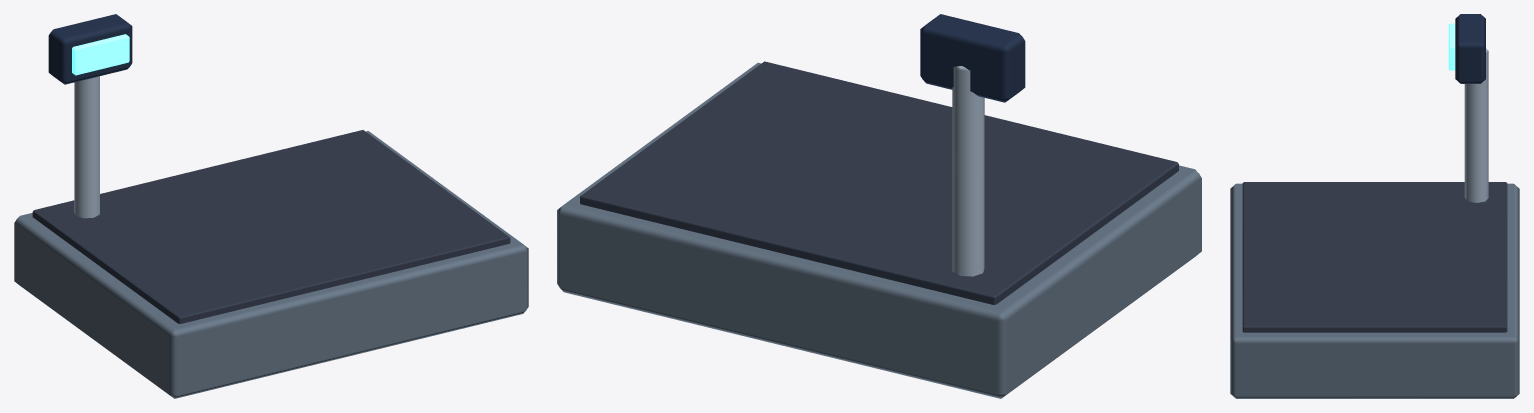
The model's file is cargo_scale.glb.
3 views of the same model, side by side, from view 1: azimuth 30°, elevation 25°; view 2: azimuth 150°, elevation 25°; view 3: azimuth 270°, elevation 25° (orthographic). The views are drawn at different scales.
Visible parts, largest first — view 1: cargo_scale; view 2: cargo_scale; view 3: cargo_scale.
Boxes of the visible parts, x1,y1,x2,y2 form: cargo_scale: [14, 14, 528, 398]; cargo_scale: [557, 14, 1201, 398]; cargo_scale: [1230, 14, 1519, 398].
Bounding box in the file's own units: 1.83 × 1.29 × 1.42.
